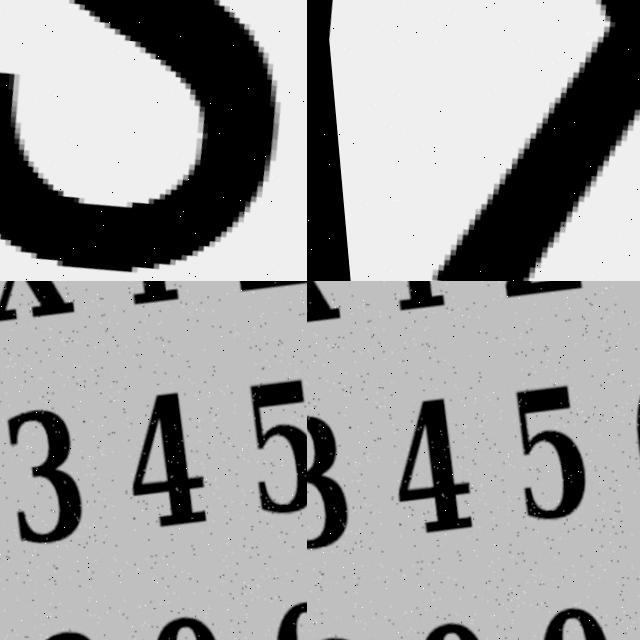0: (482, 562, 640, 640), (216, 556, 307, 640)
3: (0, 364, 114, 571), (307, 370, 380, 577)
4: (83, 370, 236, 563), (349, 376, 502, 569)
5: (465, 361, 615, 549), (198, 354, 307, 543)
6: (579, 319, 640, 546)
8: (0, 595, 134, 640)
9: (102, 578, 257, 640), (368, 584, 523, 640)
S: (0, 0, 307, 281)
X: (378, 0, 640, 281)
